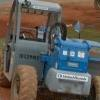Tractor: (13, 8, 99, 100)
